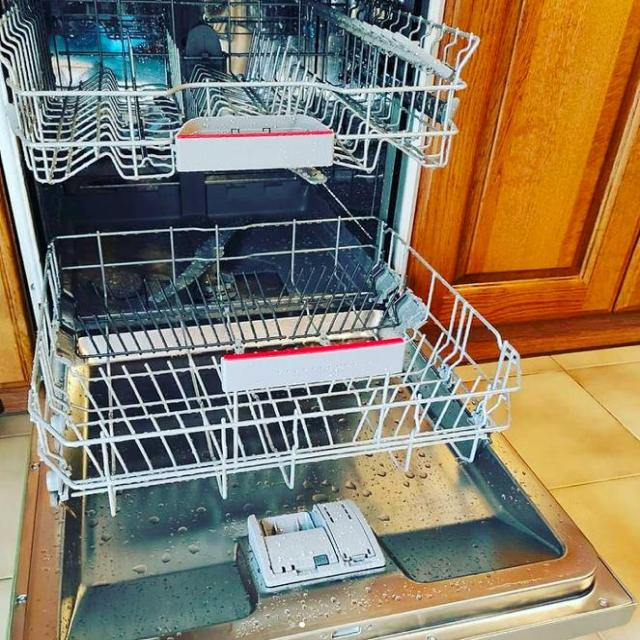dishwasher: (0, 2, 633, 639)
